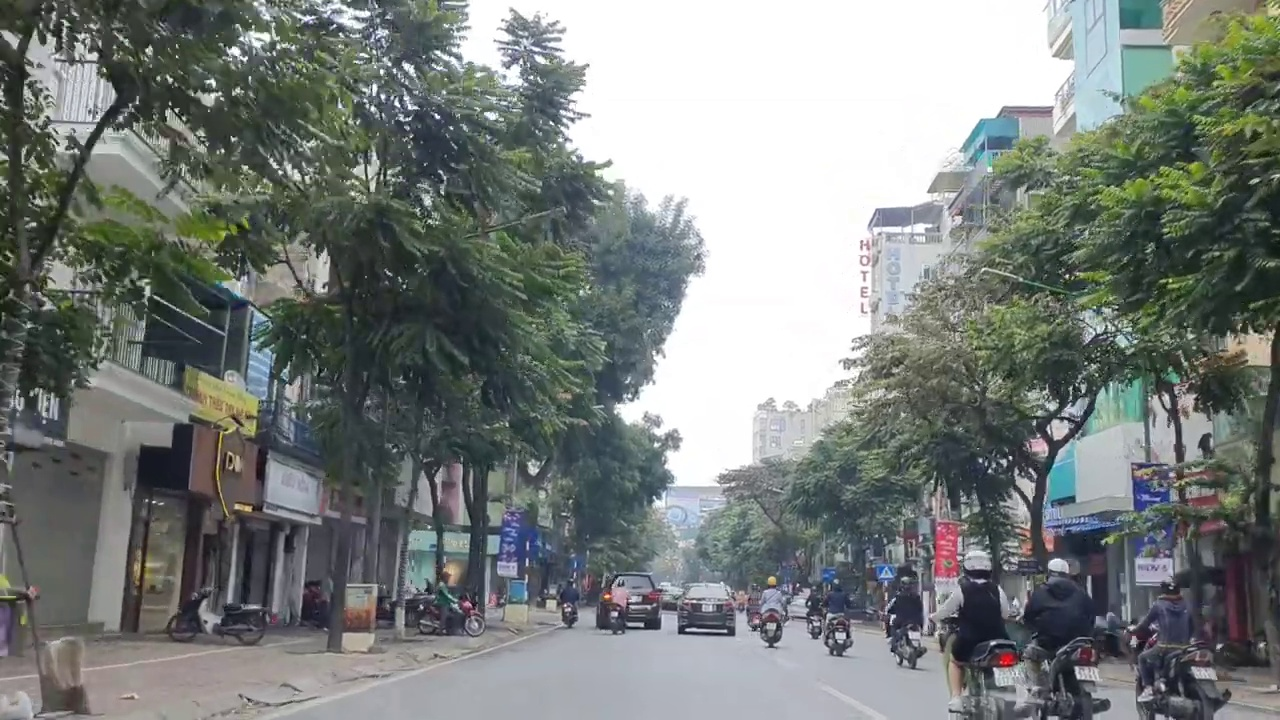vehicle-plate: (994, 667, 1026, 685), (1073, 664, 1101, 683), (1191, 666, 1215, 679)
